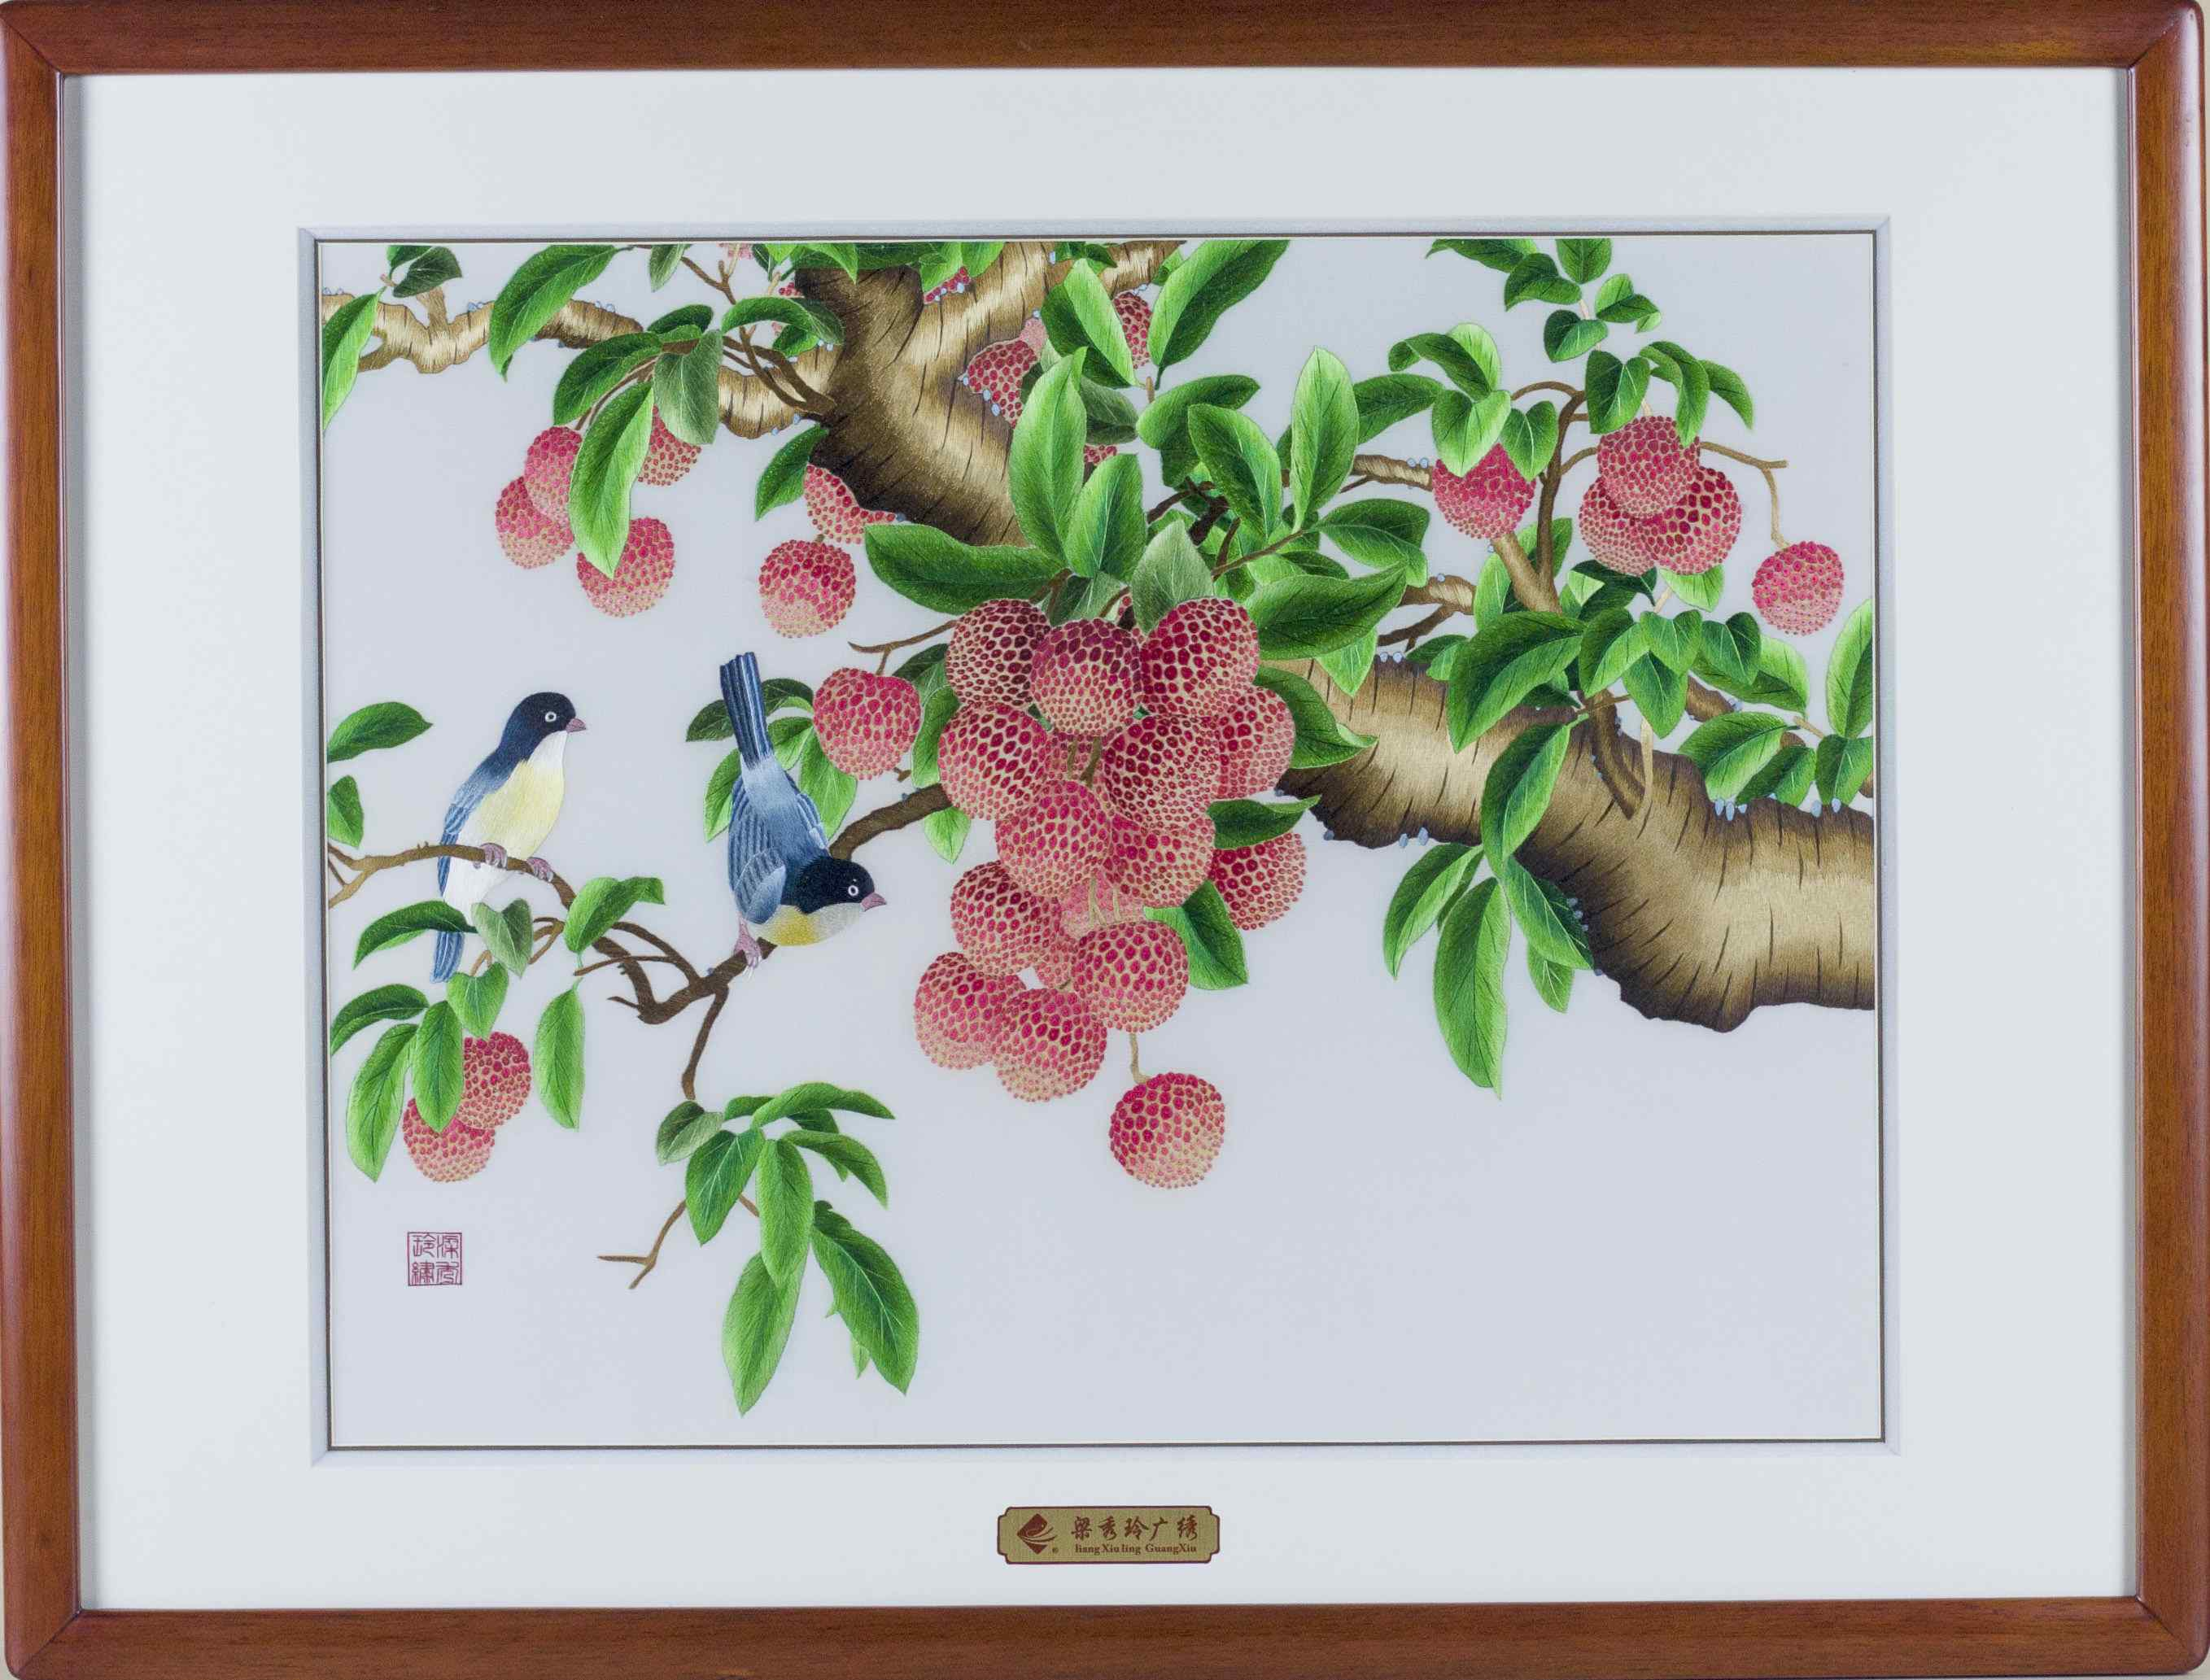bird: (706, 648, 888, 971), (401, 686, 593, 974)
lychee: (934, 679, 1077, 814), (1026, 605, 1154, 736), (996, 775, 1112, 904), (395, 1054, 510, 1179), (1207, 791, 1313, 923), (1110, 1068, 1227, 1184), (994, 981, 1109, 1099), (1103, 716, 1222, 831), (1139, 593, 1259, 704), (914, 949, 1029, 1064), (944, 595, 1056, 711), (951, 859, 1061, 972), (1075, 916, 1188, 1024), (812, 665, 921, 771), (574, 510, 680, 616), (1640, 468, 1742, 577), (1596, 415, 1702, 519), (1206, 685, 1297, 798), (1109, 810, 1214, 907), (1428, 445, 1539, 535), (759, 533, 856, 634), (1753, 536, 1853, 632), (803, 461, 906, 542), (447, 1029, 533, 1122), (1578, 478, 1659, 577), (494, 476, 574, 570), (966, 339, 1045, 424), (621, 406, 703, 484), (521, 425, 581, 519), (1107, 293, 1167, 372), (773, 282, 826, 344), (1033, 928, 1079, 988), (921, 266, 971, 302), (1084, 439, 1117, 469)
